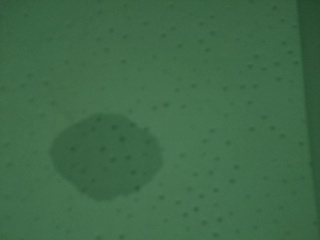Water_detected: (57, 126, 152, 188)
